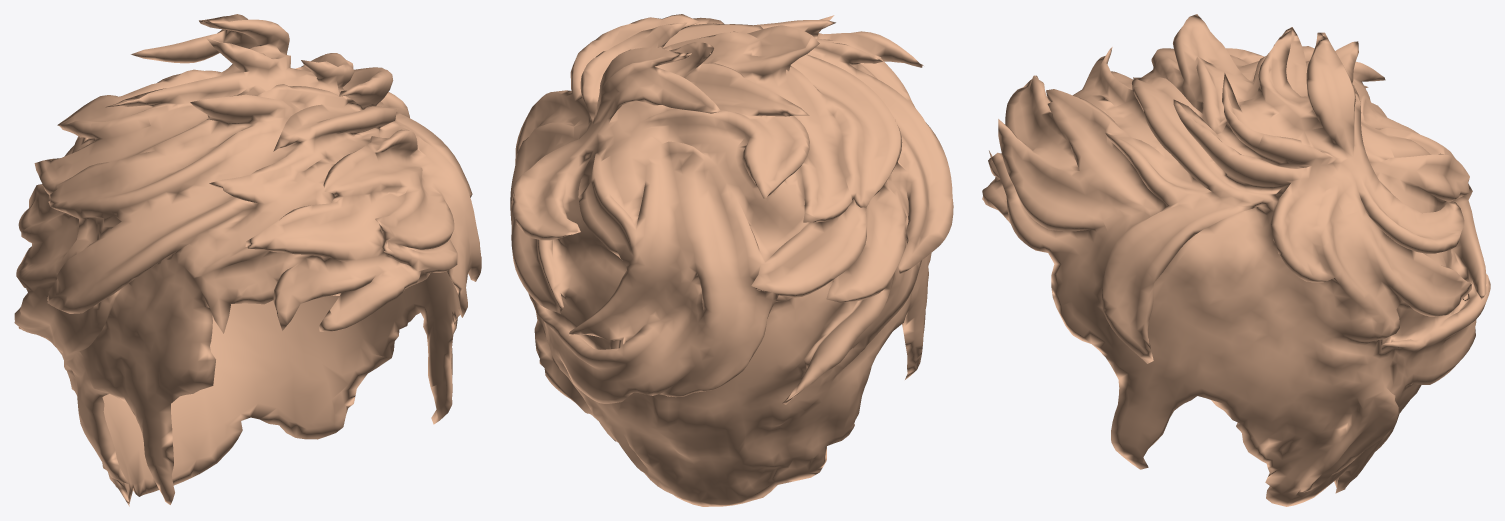
File: hairs-of-head.glb
The picture shows the model from 3 angles, left to right: view 1: azimuth 30°, elevation 25°; view 2: azimuth 150°, elevation 25°; view 3: azimuth 270°, elevation 25°; orthographic projection. The views are drawn at different scales.
Visible parts, largest first — view 1: Hairs of head; view 2: Hairs of head; view 3: Hairs of head.
Boxes of the visible parts, x1,y1,x2,y2 form: Hairs of head: (14,14,481,506); Hairs of head: (510,14,953,506); Hairs of head: (982,14,1490,506).
Bounding box in the file's own units: 0.1958 × 0.22 × 0.2201.
